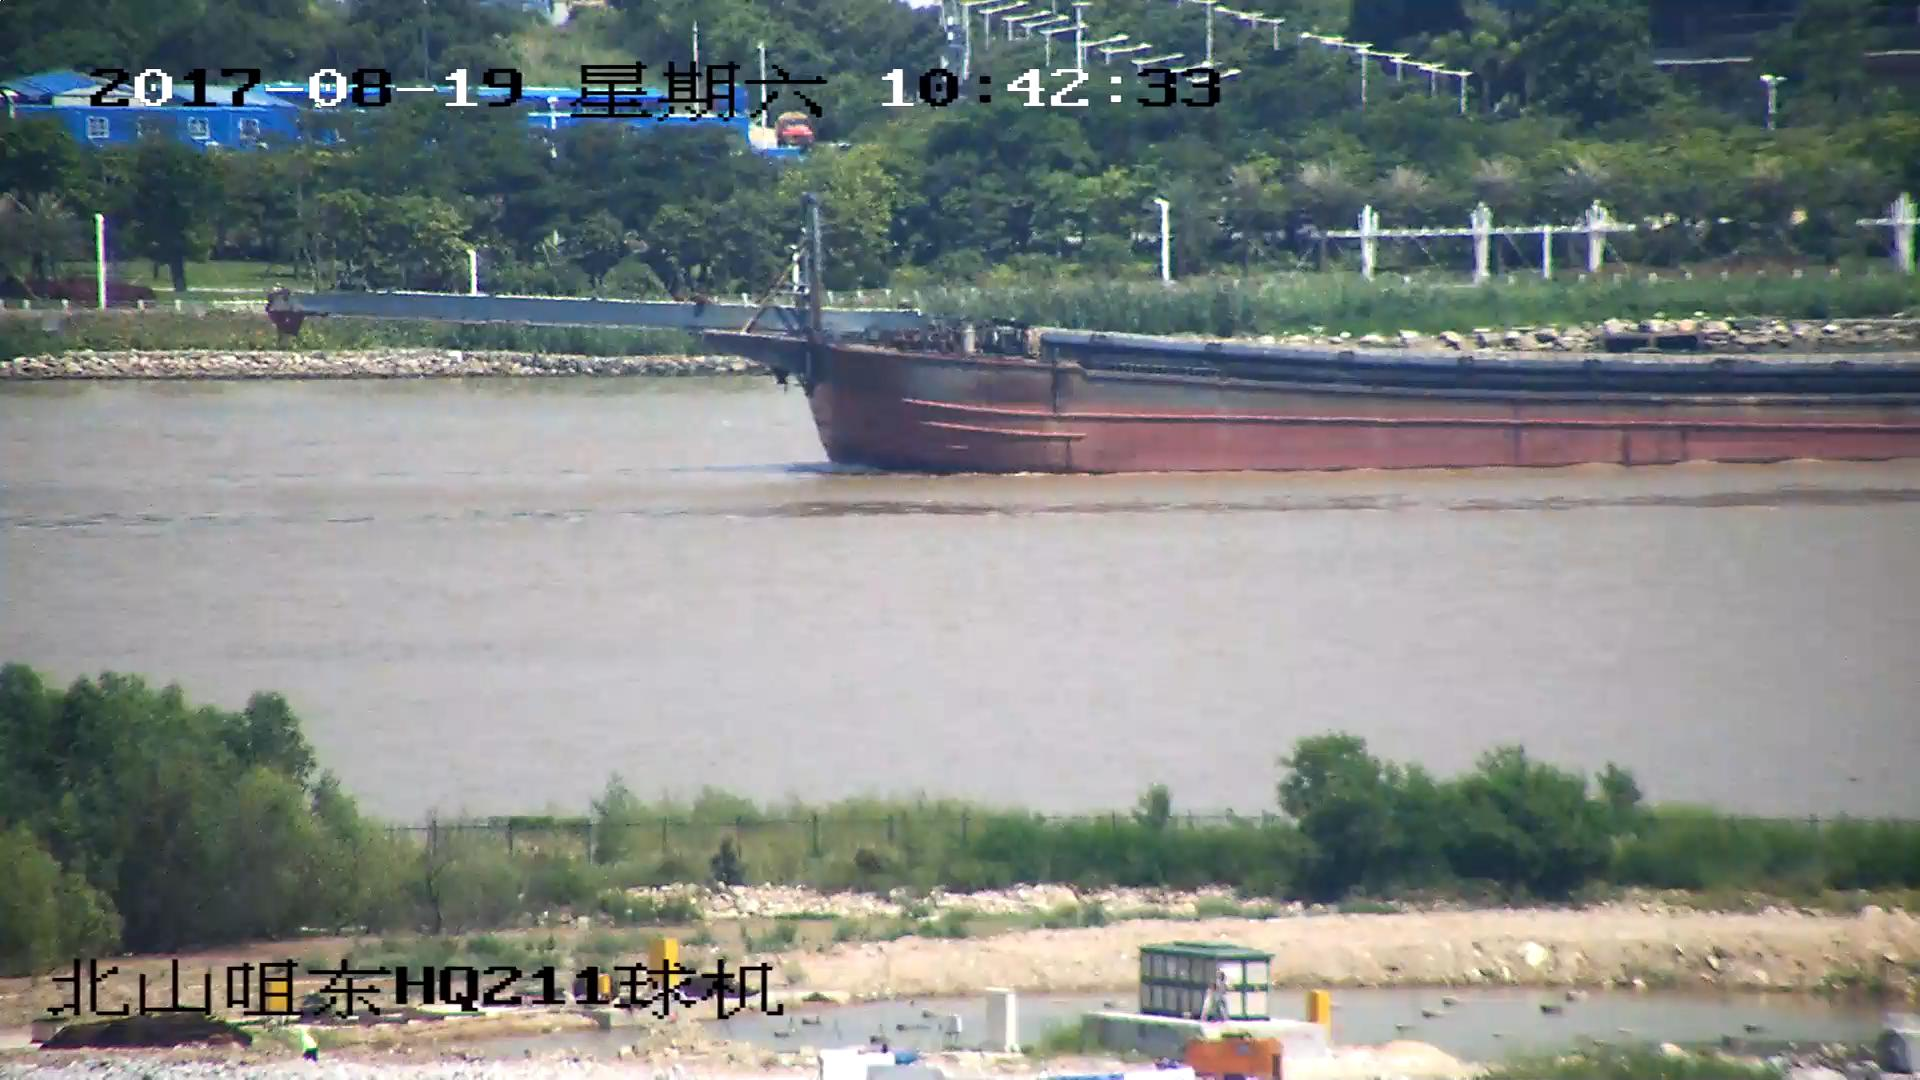bulk cargo carrier: (268, 199, 1920, 475)
